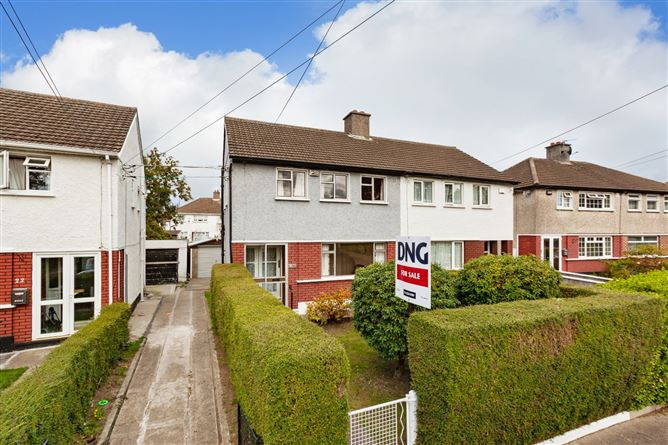property sign: (385, 230, 440, 314)
